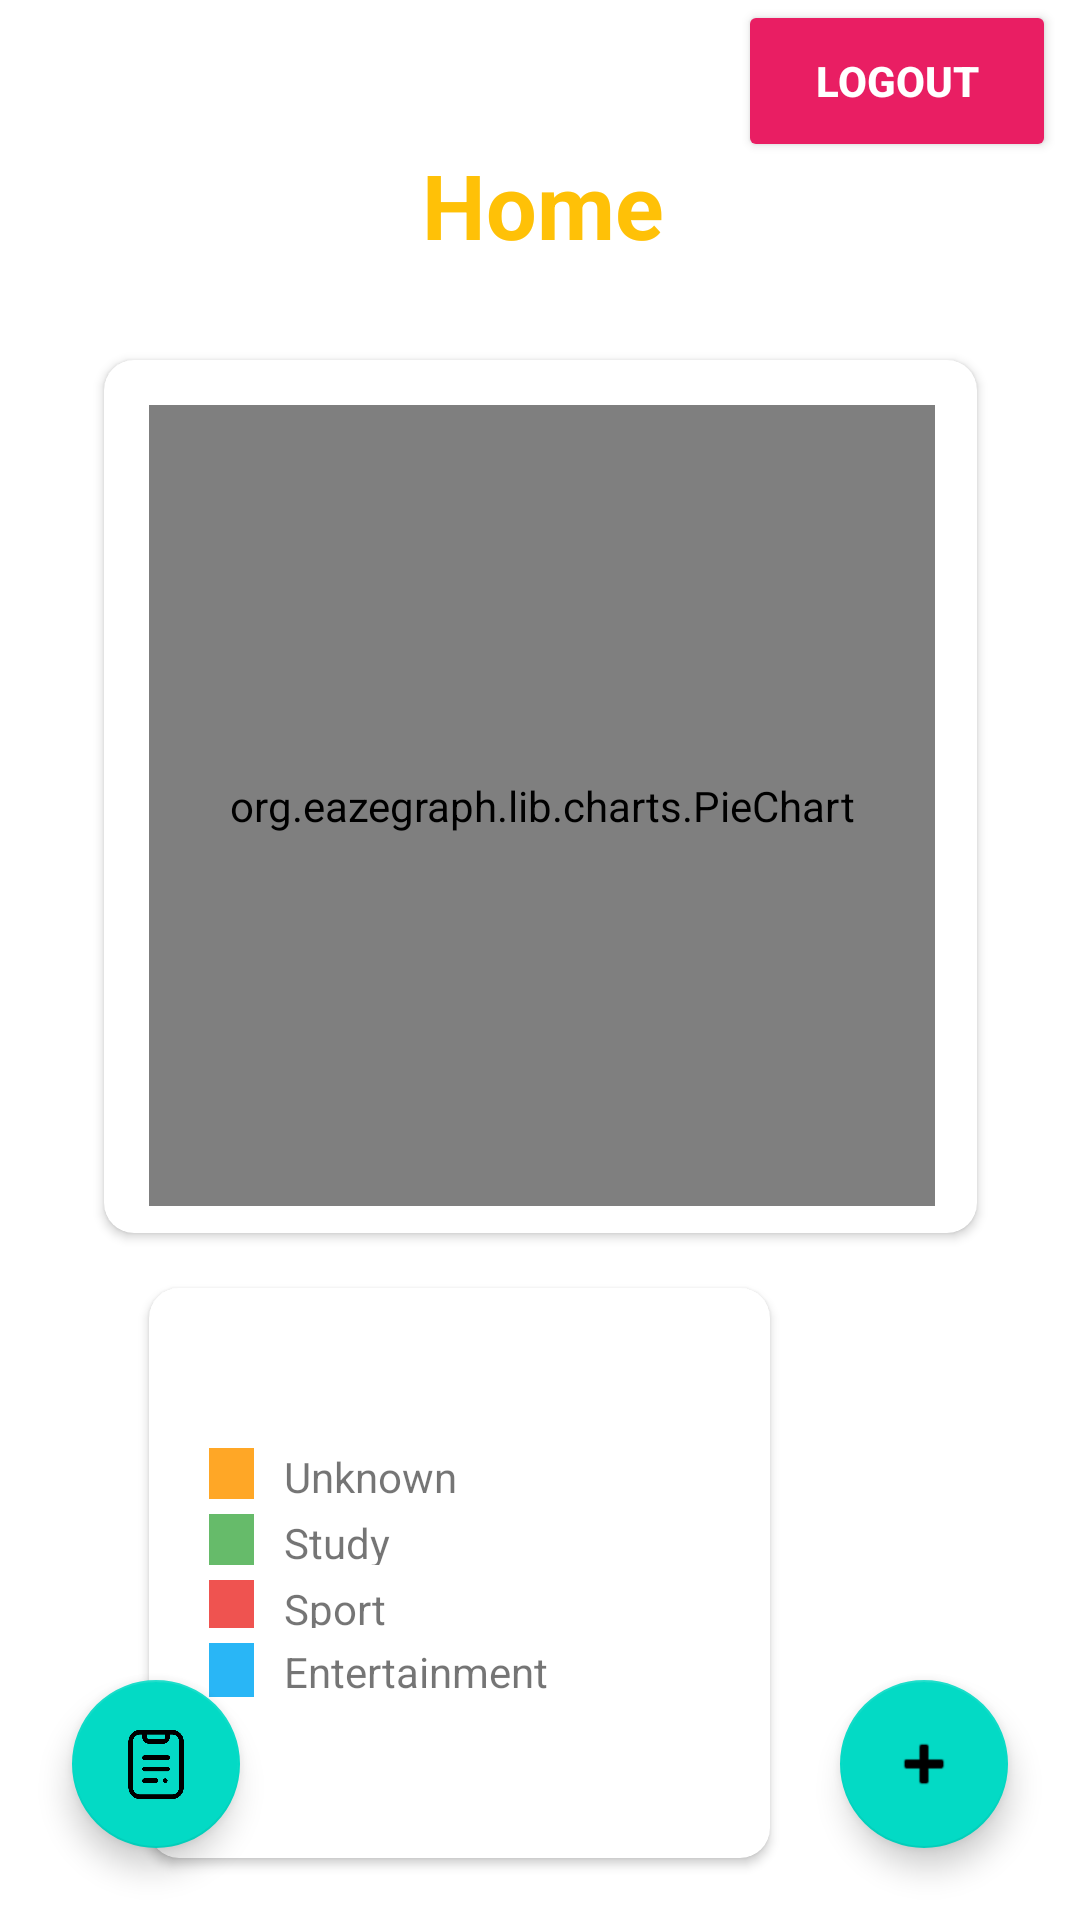

Named icons in this screenshot (1080 x 1920) and their centers, [x,y]:
add: [924,1764]
noun list: [156,1764]
